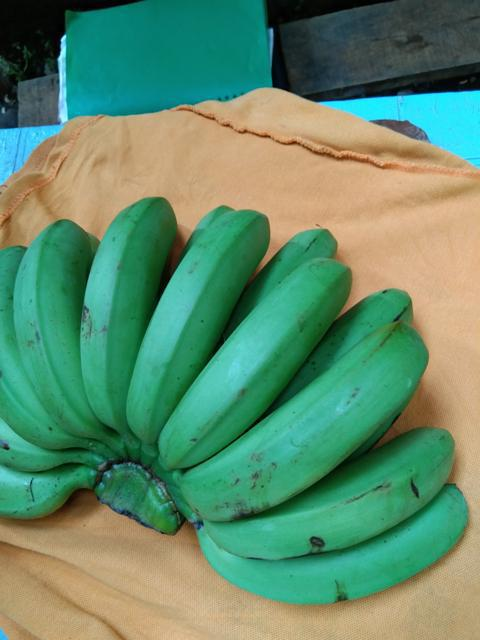freshunripe: (153, 251, 345, 458), (116, 194, 271, 448)
